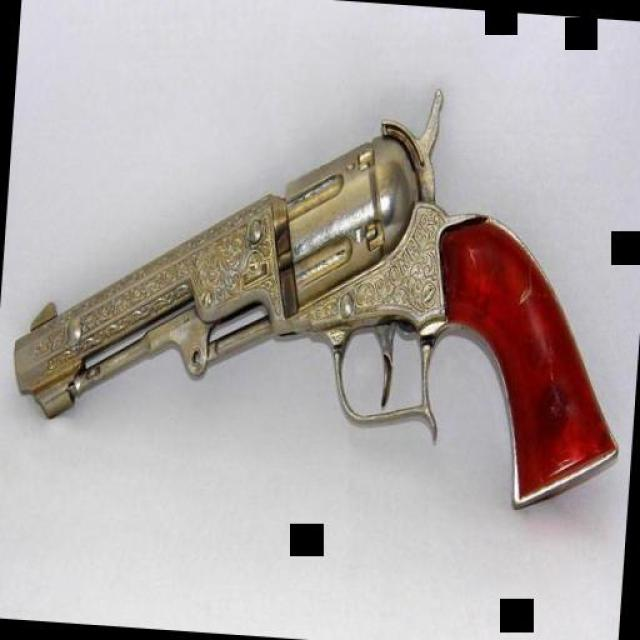gun: (2, 51, 640, 532)
